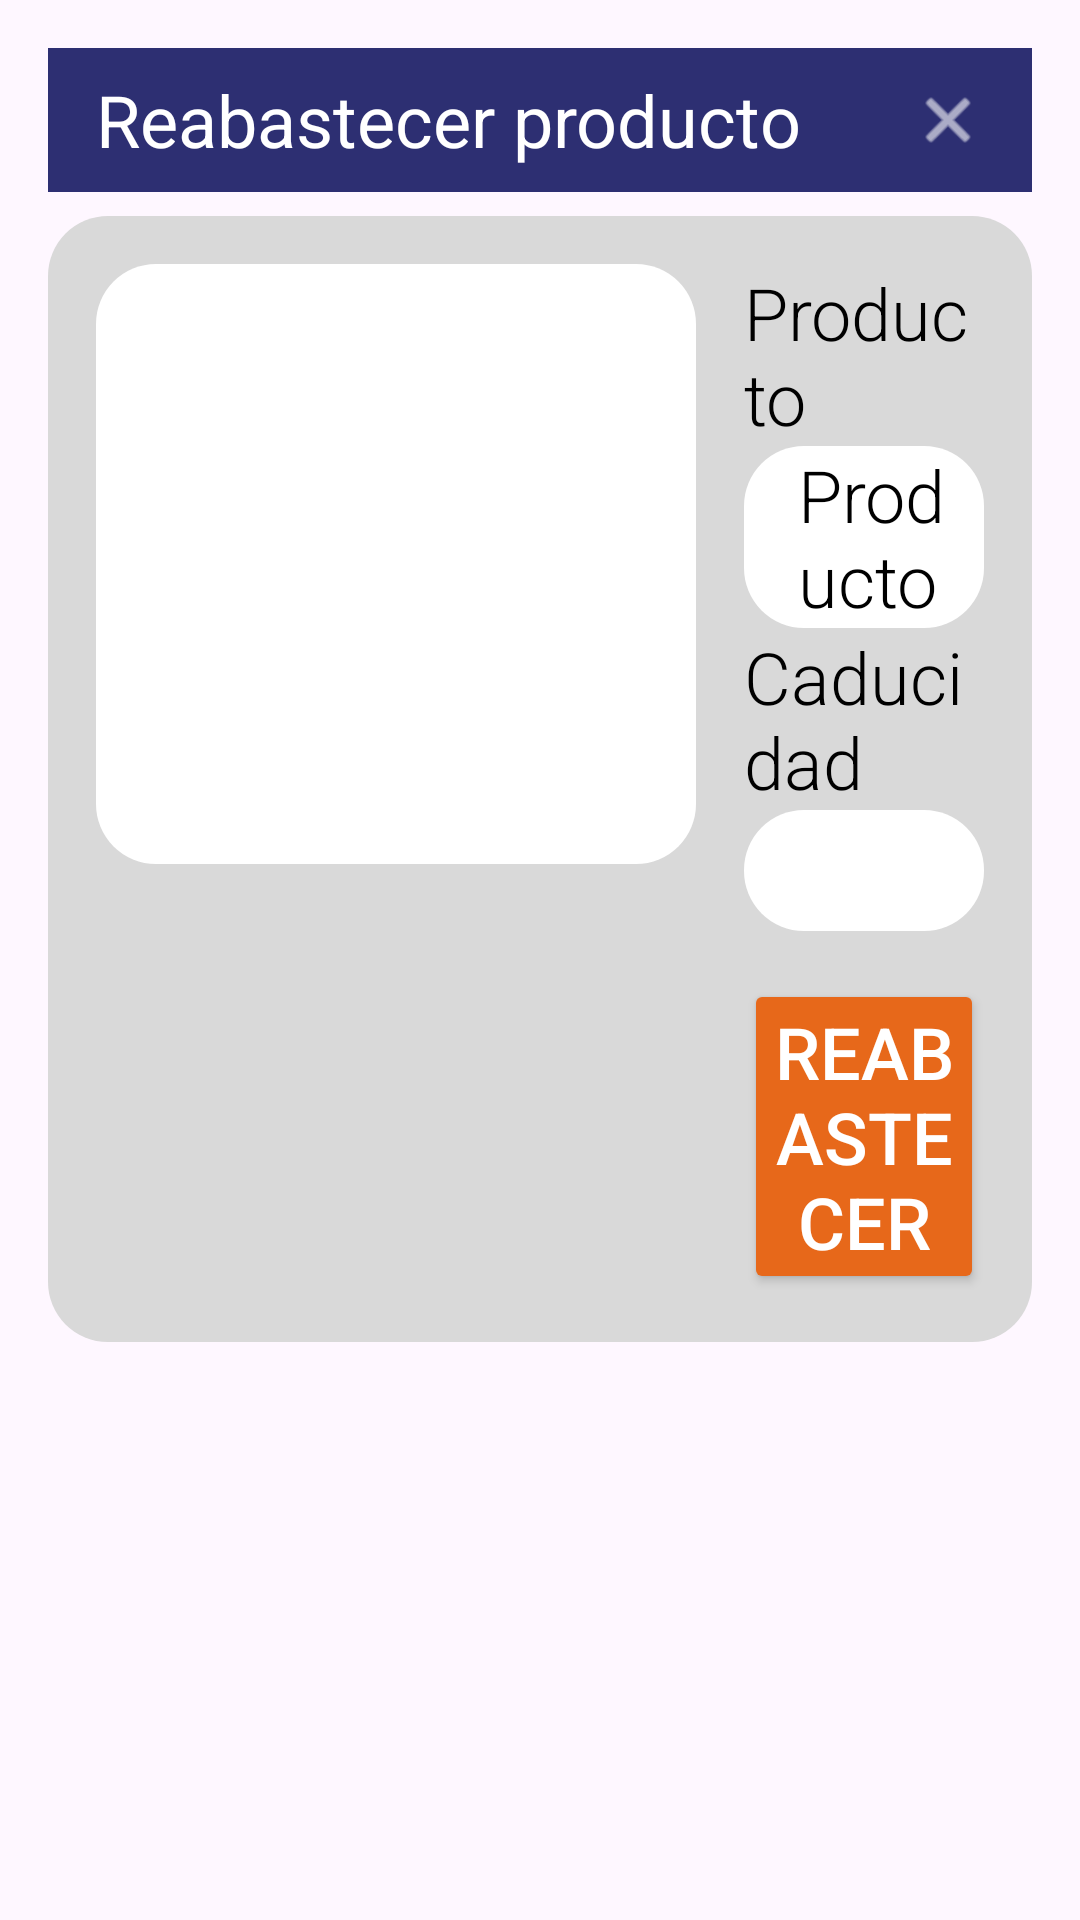

Icon bounding boxes for this 1080×1920 phone screenshot, format (x1, y1, x2, y2):
close clear cancel: (925, 97, 971, 143)
